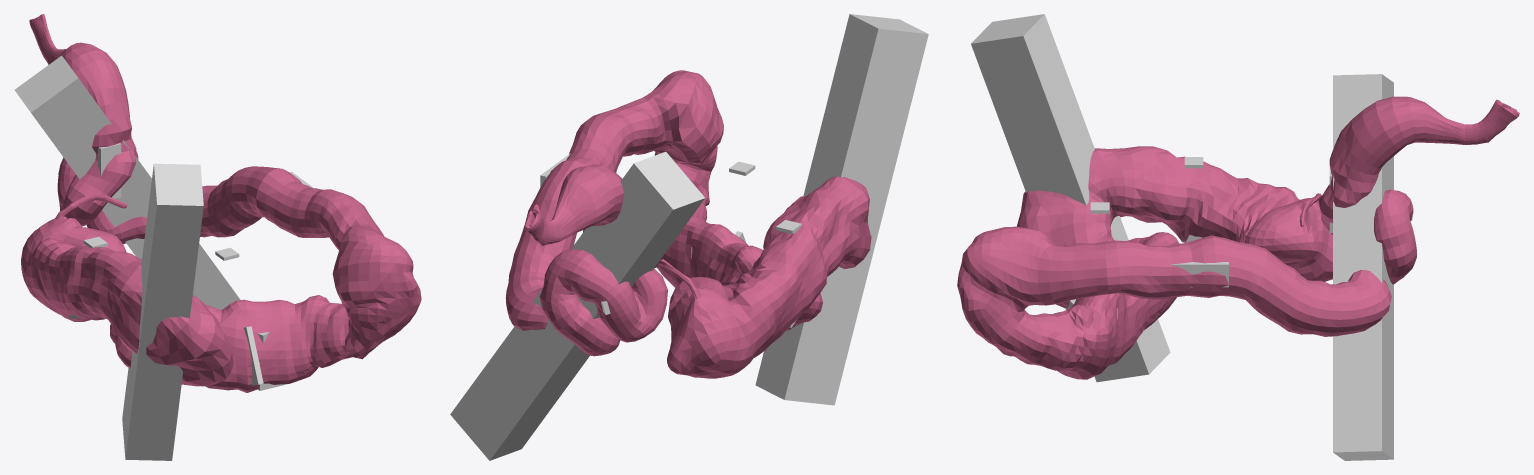
The model's file is non_hra_mapping.glb.
The picture shows the model from 3 angles, left to right: view 1: azimuth 30°, elevation 25°; view 2: azimuth 150°, elevation 25°; view 3: azimuth 270°, elevation 25°; orthographic projection. The views are drawn at different scales.
Visible parts, largest first — view 1: world; view 2: world; view 3: world.
Part boxes in pixels (x1=…): world: x1=14, y1=14, x2=421, y2=460; world: x1=450, y1=14, x2=928, y2=460; world: x1=957, y1=14, x2=1519, y2=460.
Size of the model in its own units: 261 by 309 by 450.
